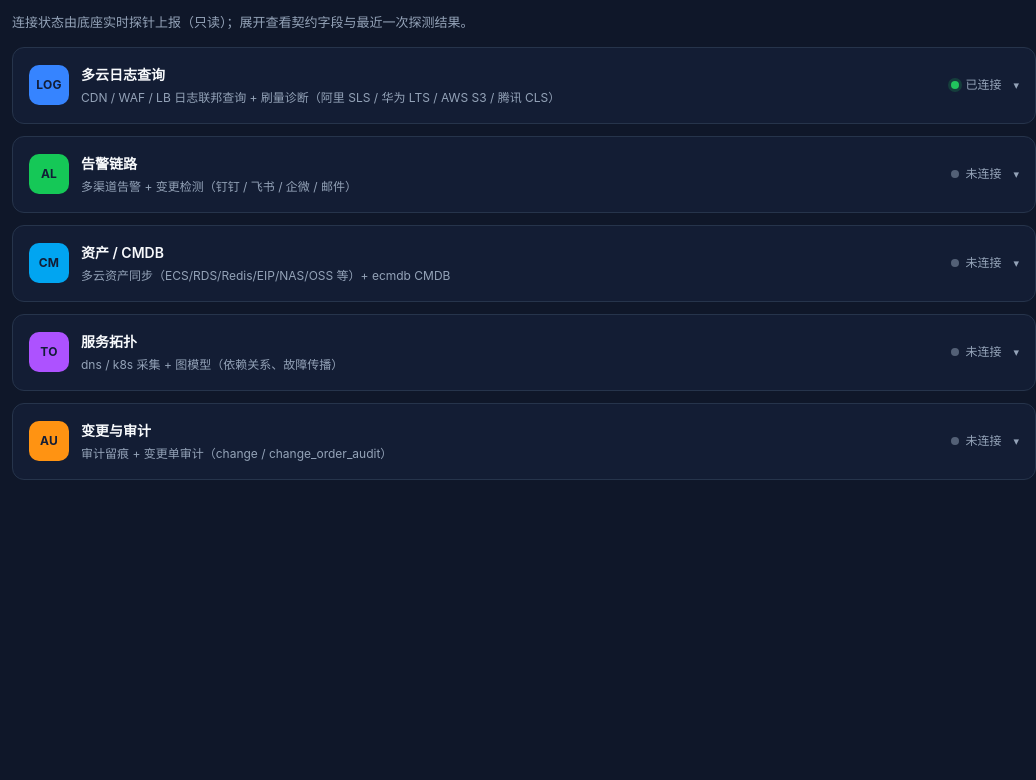
it: DatasourceTab 数据源配置（原型 settings.html 五卡注册表口径） › 展开明细展示真实探针数据（cloud/状态/检查时间）；无探针卡→「底座未上报该数据源探针」
Click the button with class "ds-card-head" that starts with "LOG".
click(49, 85)  # box [29,65,1019,105]
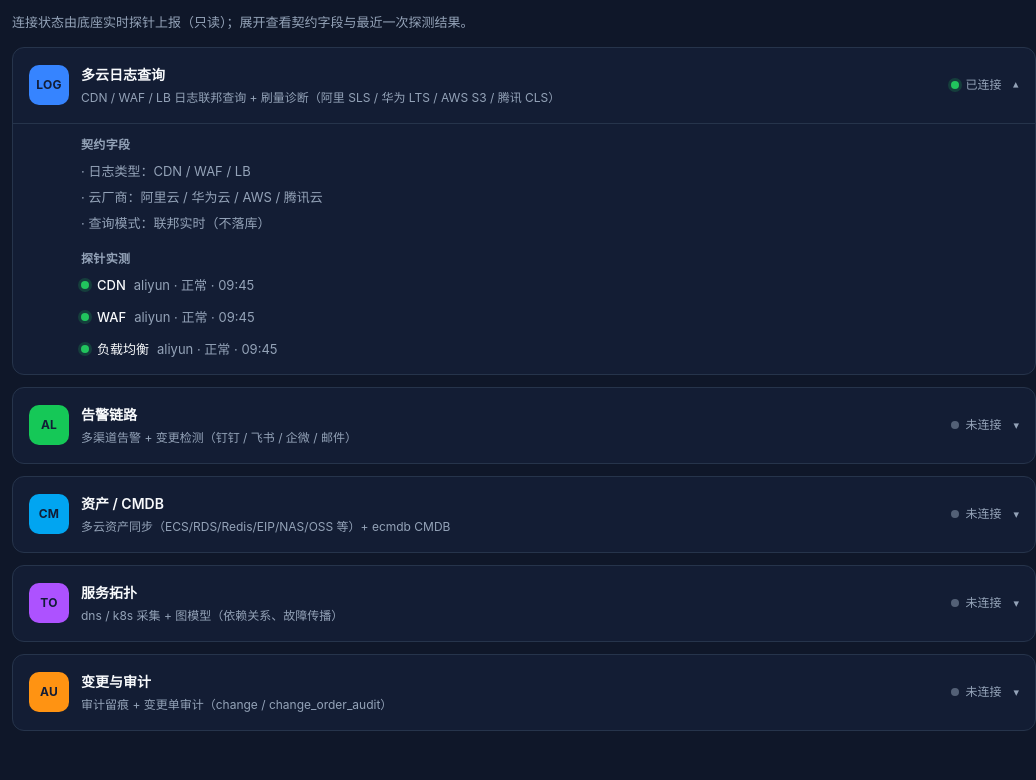
Check: the element with class "ds-panel" shows "探针实测", box [81,251,130,266]
Check: the number of list items with class "ds-probe" is 3, box [81,277,254,293]; [81,309,255,325]; [81,341,278,357]
Check: the list item with class "ds-probe" shows "CDN", box [97,277,126,293]
topology（无 probeKeys）展开 → 诚实占位
Click the button with class "ds-card-head" that starts with "服务拓扑".
click(49, 603)  # box [29,583,1019,623]
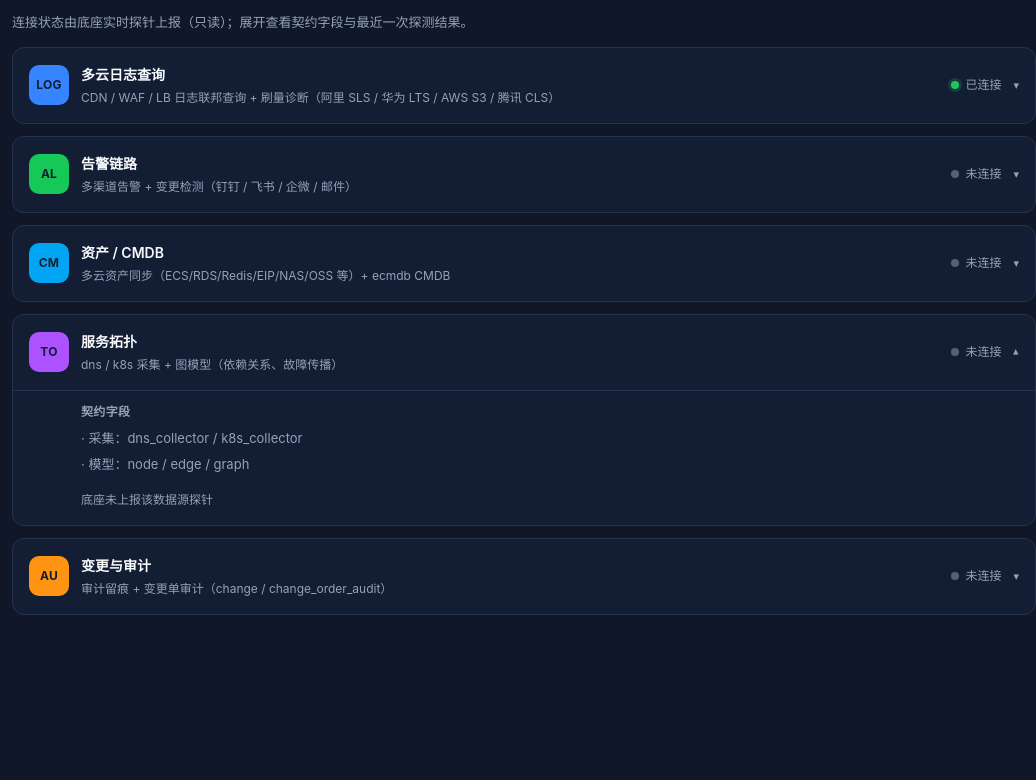
Check: the element with class "ds-panel" shows "底座未上报该数据源探针", box [81,492,213,507]
